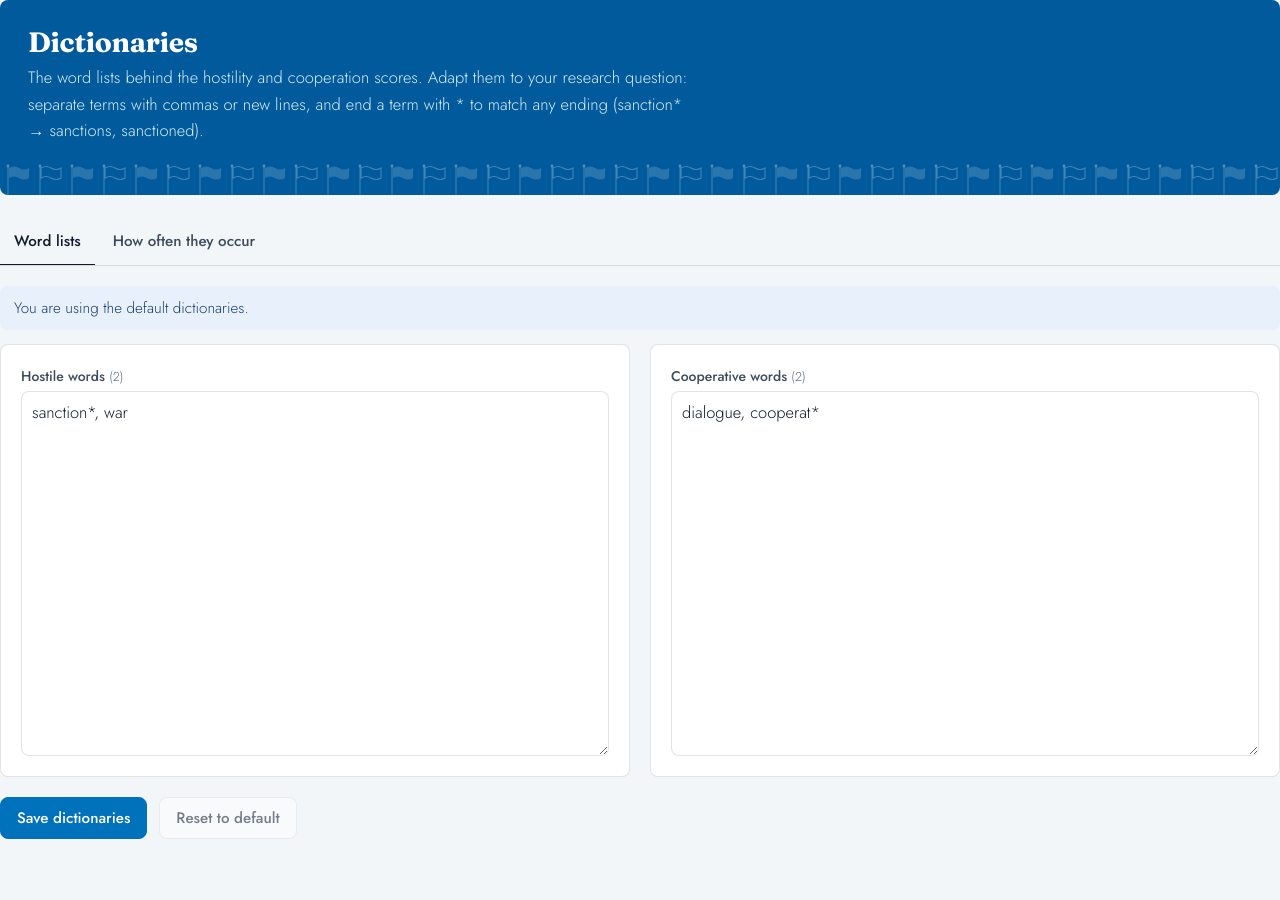
Scenario: DictionariesPage › saves custom lists in the browser and resets to the defaults
The width and height of the screenshot is (1280, 900).
Replace the text in the text box labelled "Hostile words (2)" with "threat*, enemy" at (315, 574), box [21,392,609,756]
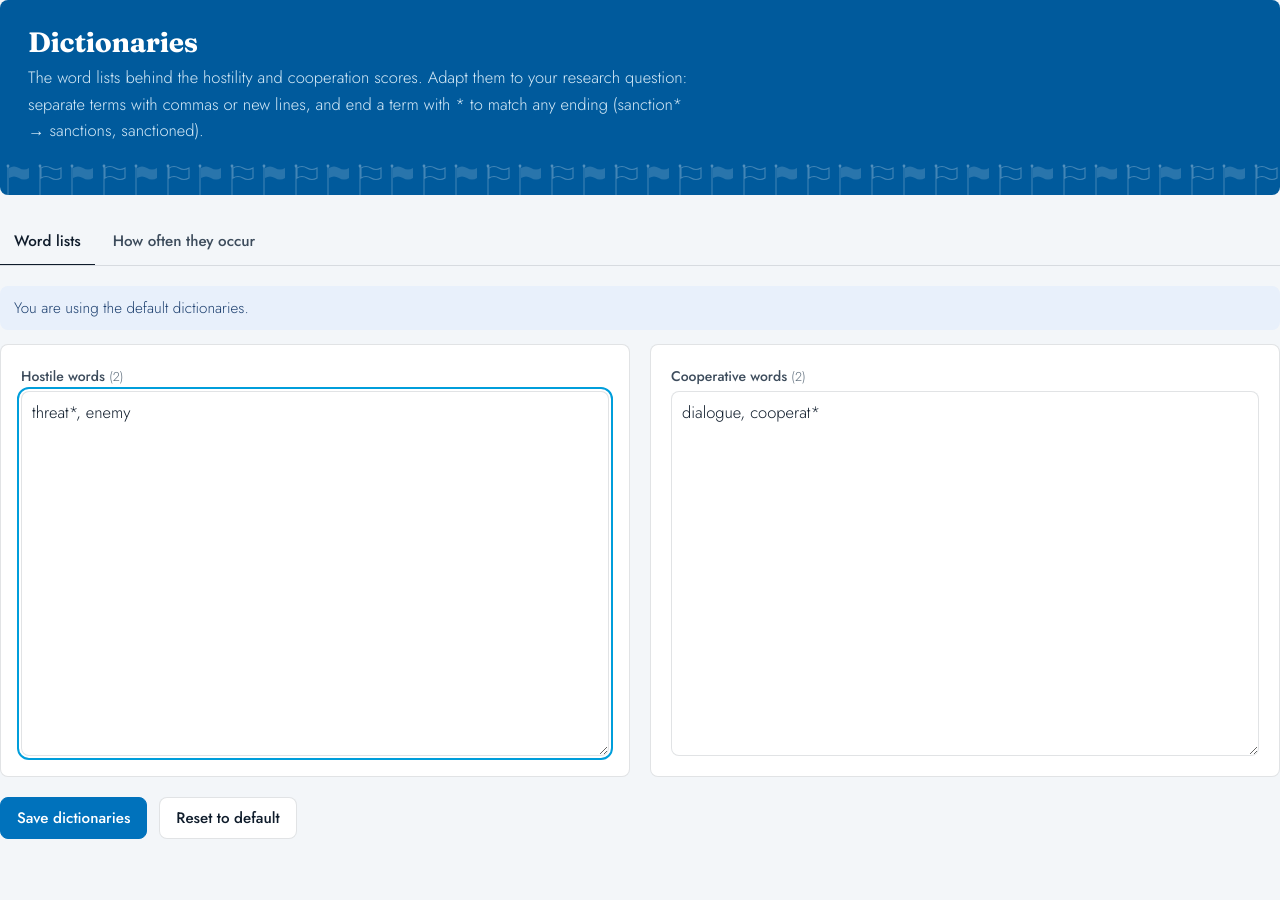
Click the button "Save dictionaries" at (74, 818), box [0,797,147,839]
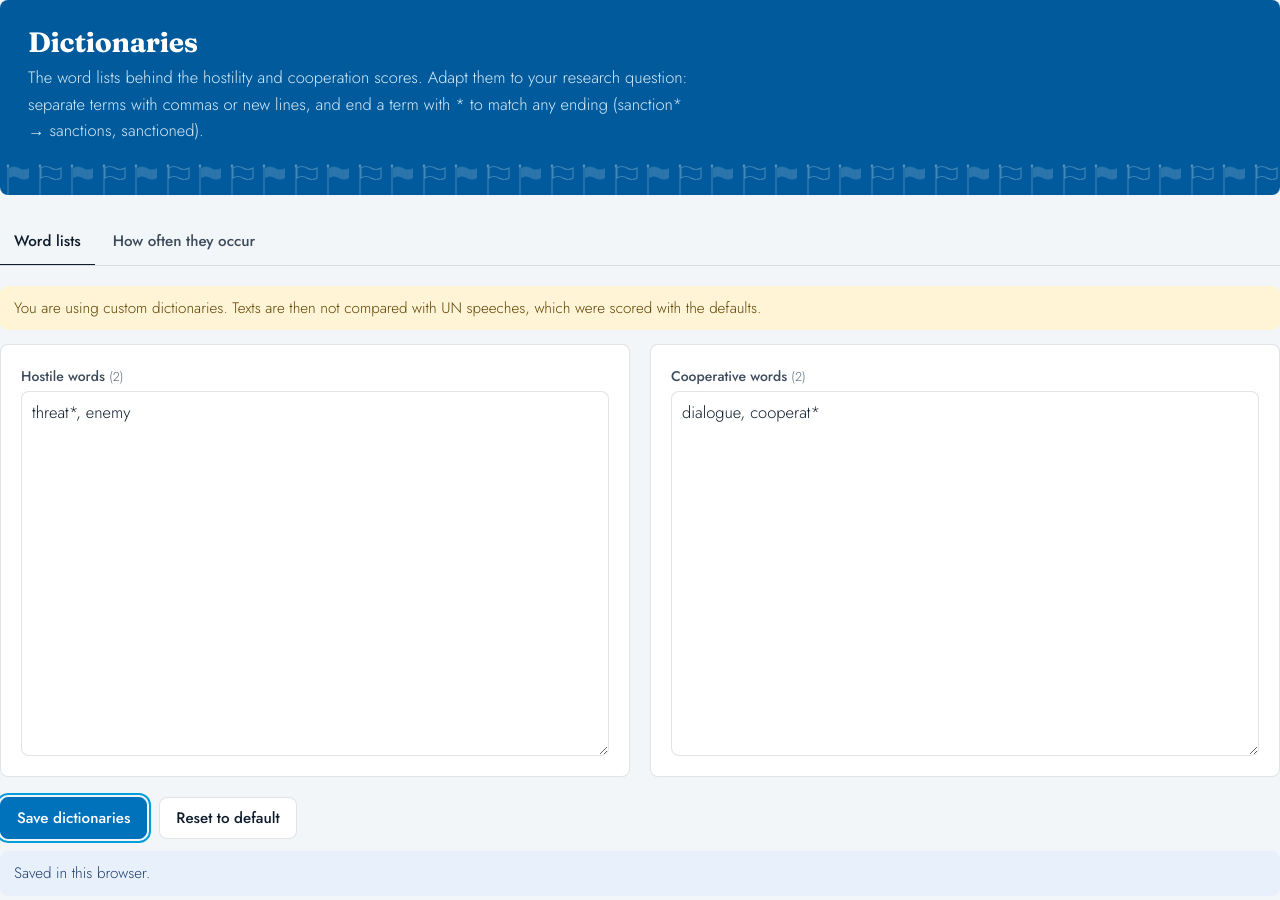
Result: the text "You are using custom dictionaries" is shown at [14,297,761,319]
Click the button "Reset to default" at (228, 818), box [159,797,297,839]
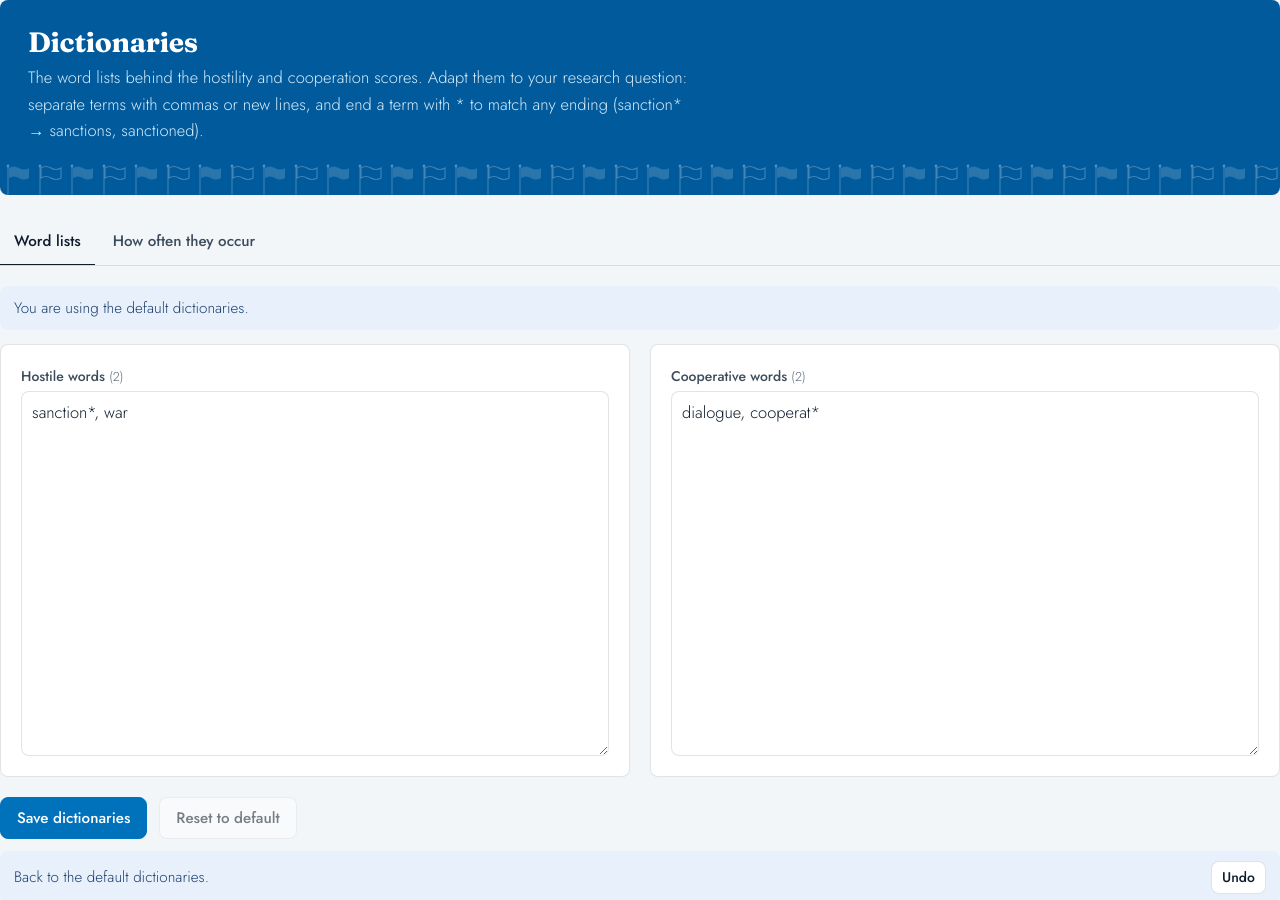
Result: the text box labelled "Hostile words (2)" holds "sanction*, war" at [21,392,609,756]
